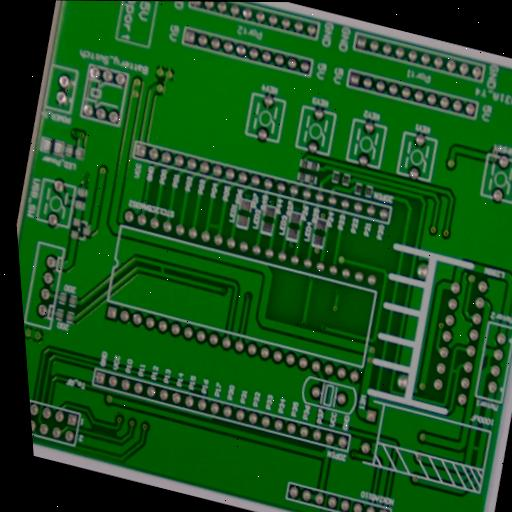short_circuit: (199, 213, 229, 243), (478, 348, 501, 374), (464, 438, 488, 462), (151, 258, 172, 281), (446, 362, 463, 381)
